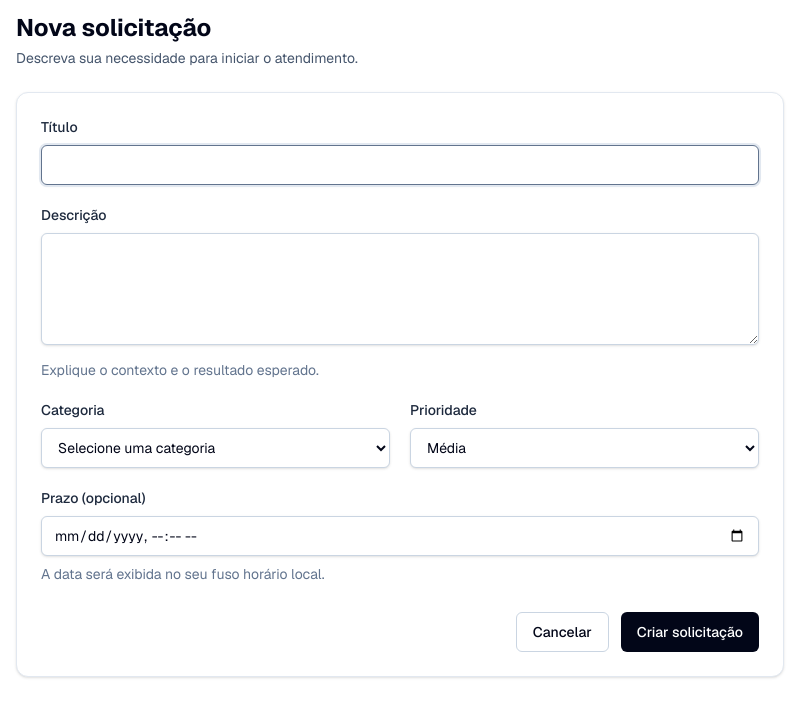
nova solicitação › rejeita prazo passado no frontend
Type "Acesso ao financeiro" into the field labelled "Título". click: (400, 165)
box: [41, 145, 759, 185]
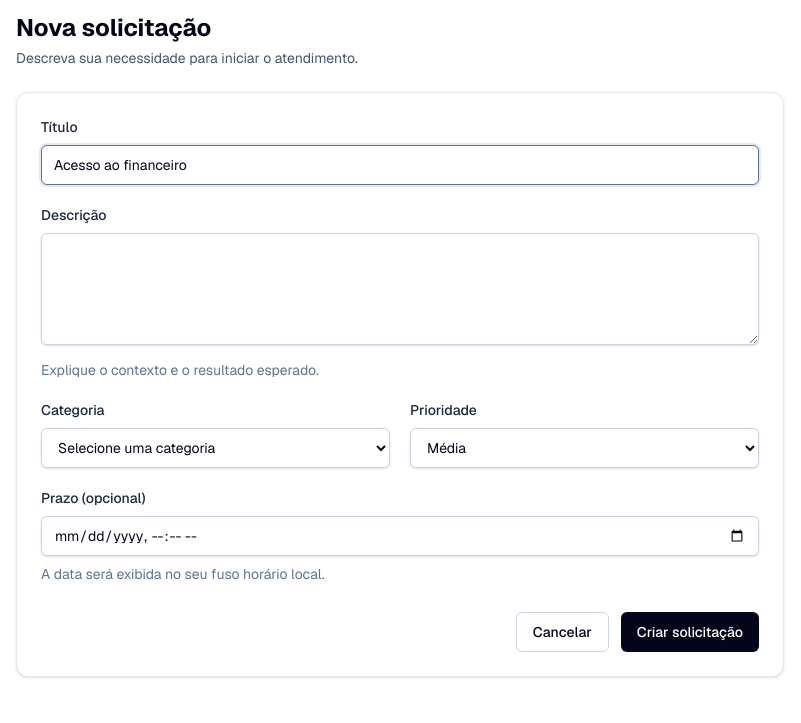
Type "Liberar perfil" into the text box labelled "Descrição". click: (400, 289)
box: [41, 233, 759, 345]
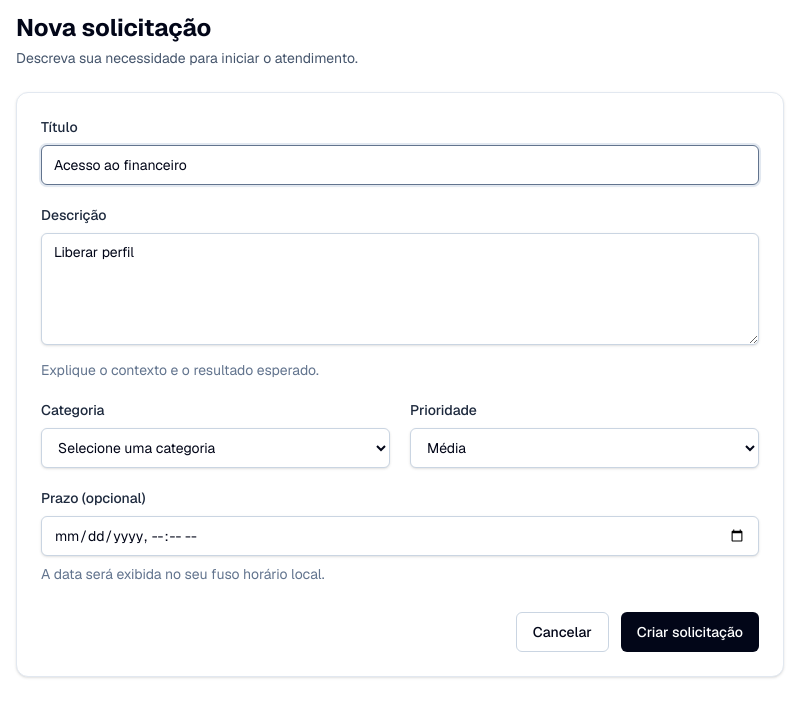
Select "Acessos" in the dropdown labelled "Categoria". click: (216, 448)
box: [41, 428, 390, 468]
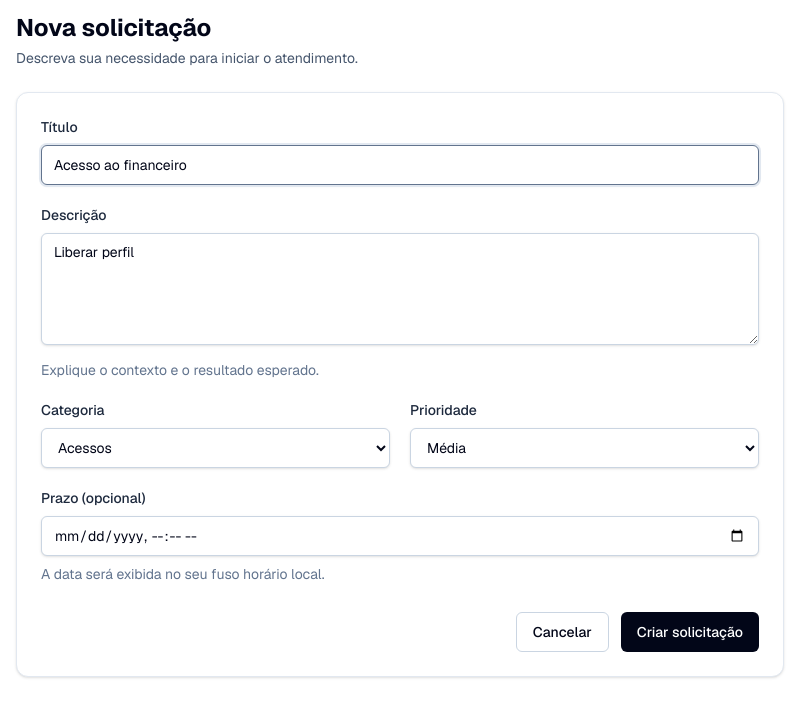
Type "2020-01-01T10:00" into the field labelled "Prazo (opcional)". click: (400, 536)
box: [41, 516, 759, 556]
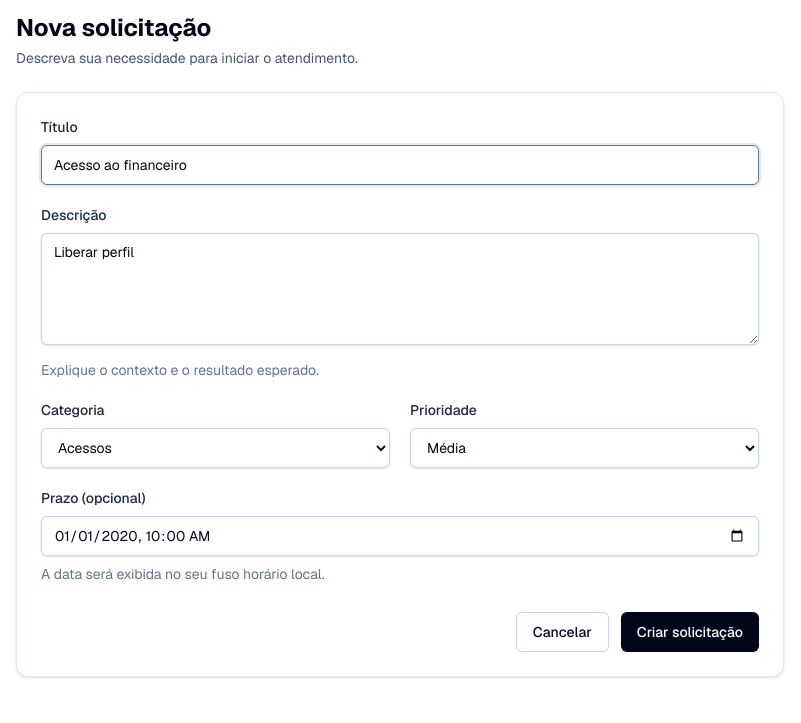
Click the button "Criar solicitação". click: (690, 632)
box: [621, 612, 759, 652]
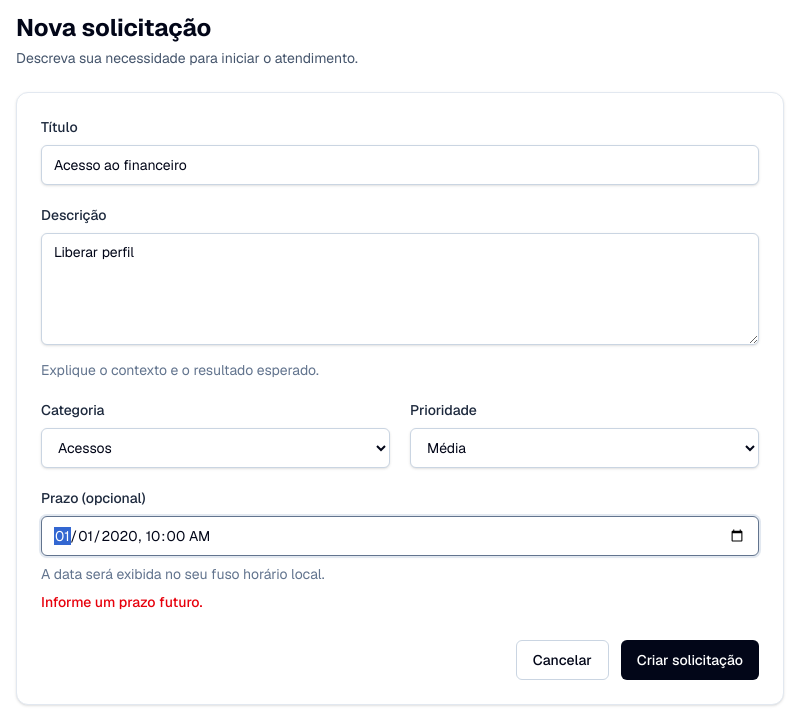
expect the text "Informe um prazo futuro." is shown: met, box [41, 593, 203, 611]
